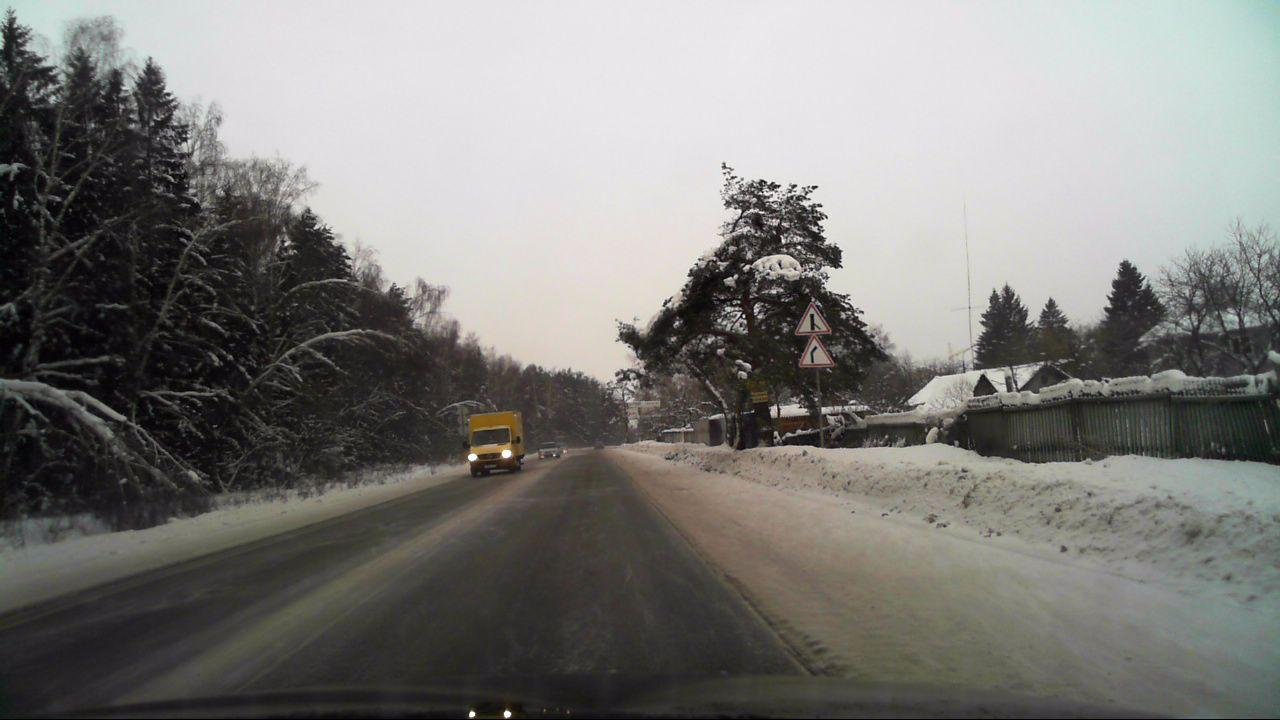1_11_1: (798, 335, 835, 367)
2_3_6: (794, 302, 831, 336)
